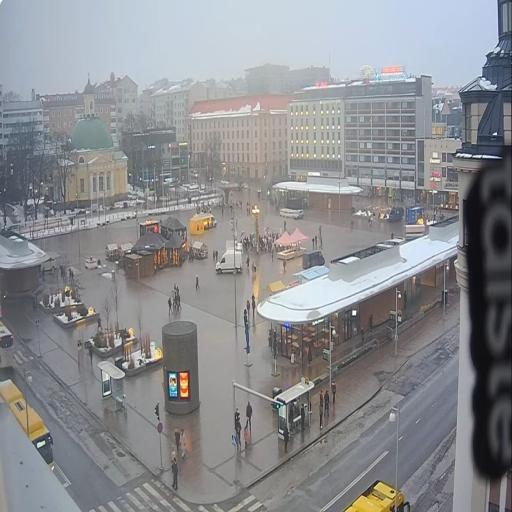Bus: (0, 380, 54, 470), (343, 480, 410, 511), (0, 320, 15, 368)
